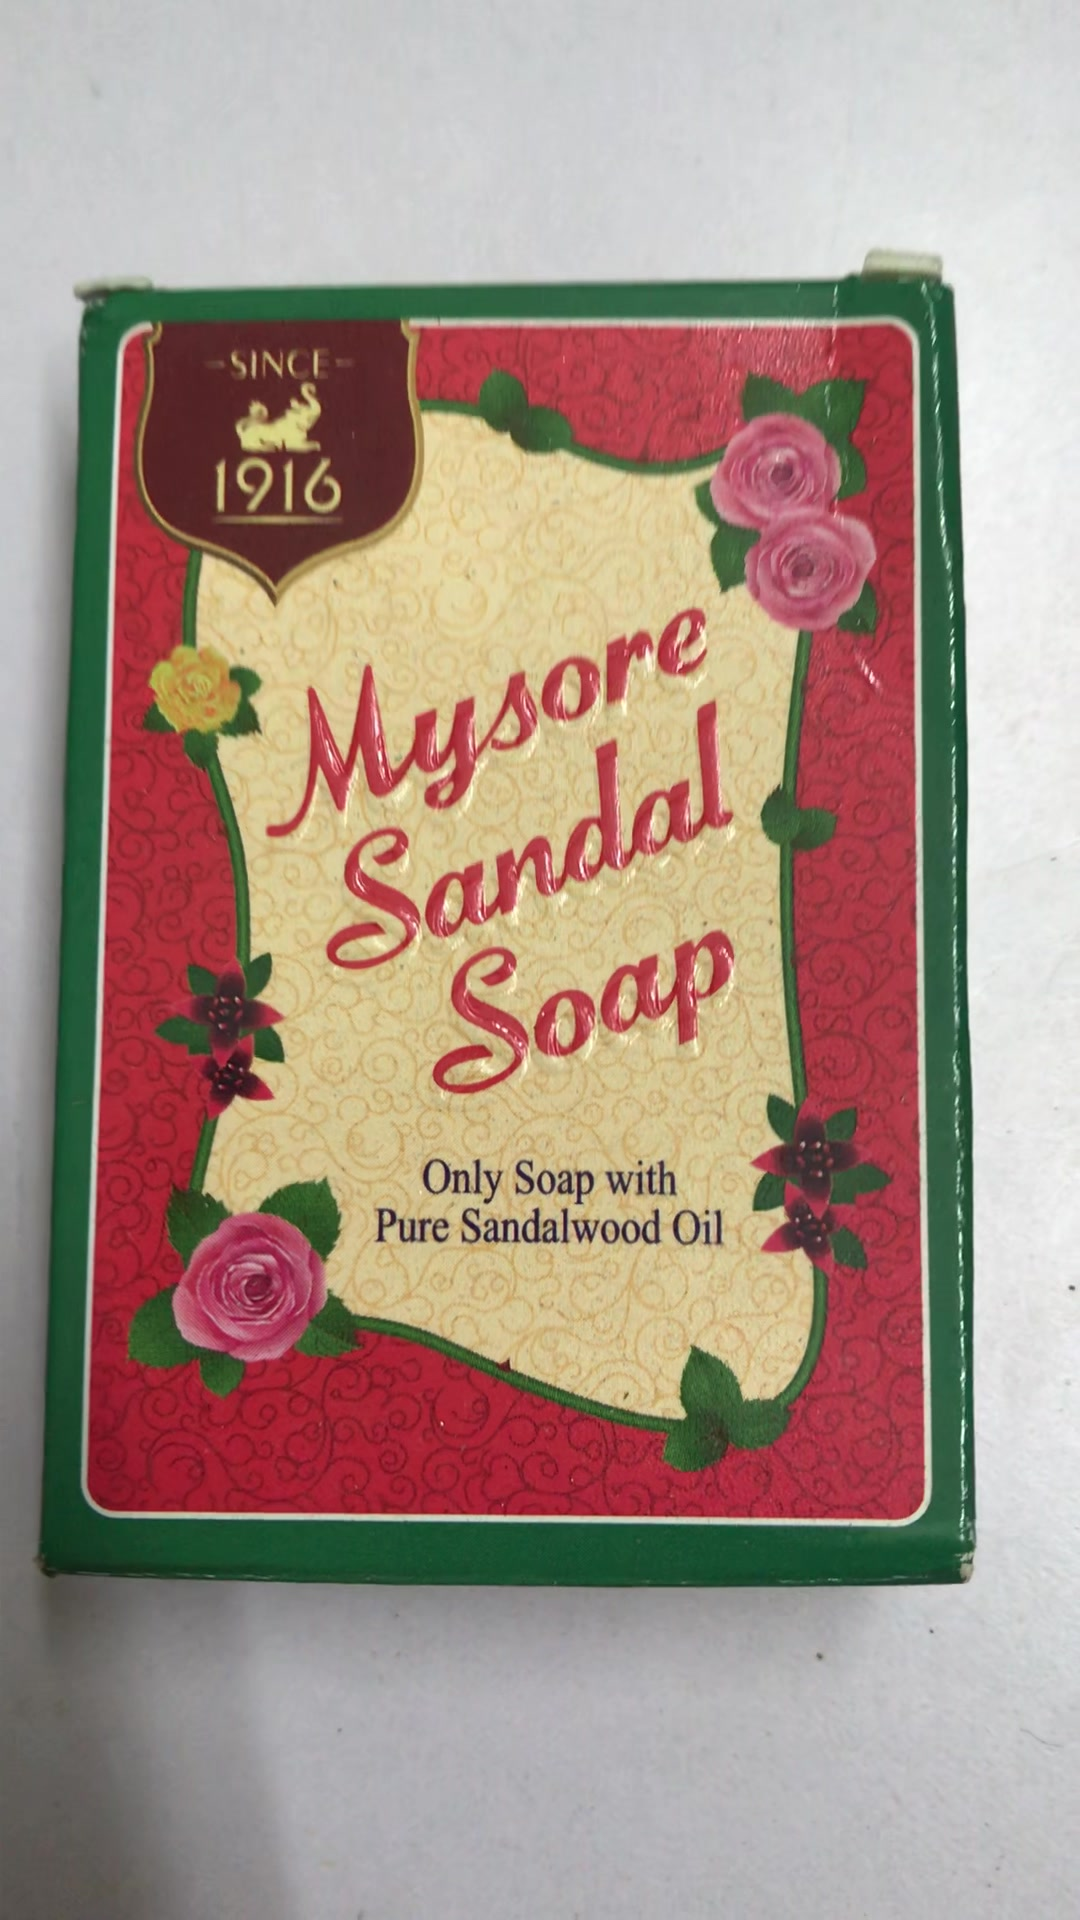mysore sandal soap: (74, 269, 972, 1592)
